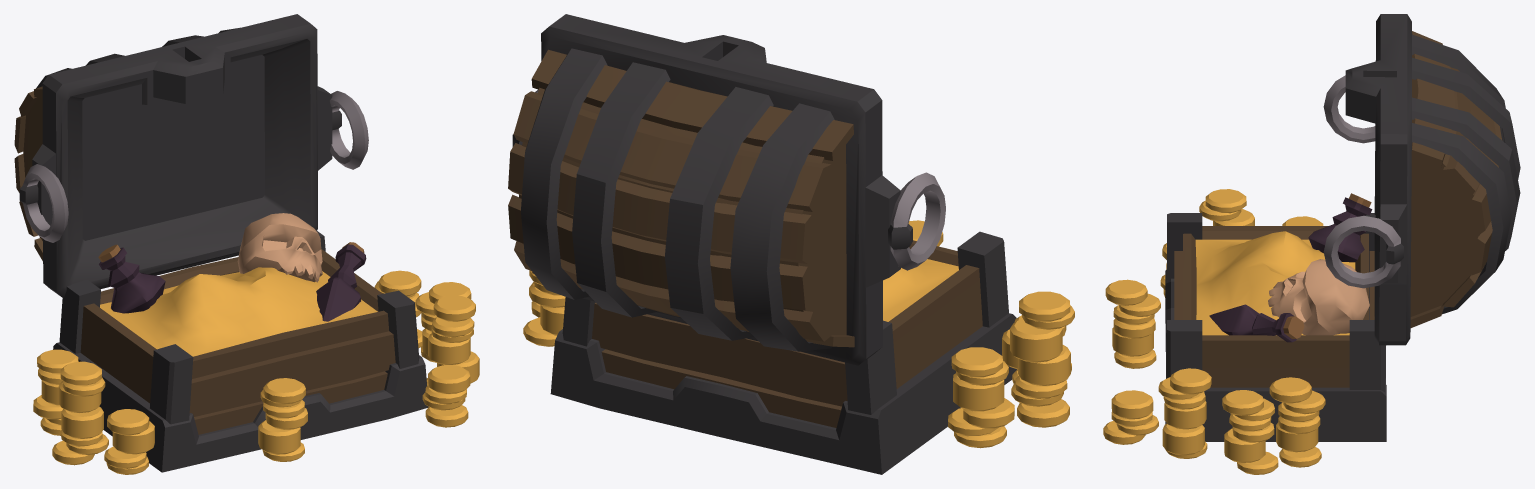
File: Prop_Chest_Gold.glb
The picture shows the model from 3 angles, left to right: view 1: azimuth 30°, elevation 25°; view 2: azimuth 150°, elevation 25°; view 3: azimuth 270°, elevation 25°; orthographic projection. The views are drawn at different scales.
Visible parts, largest first — view 1: Prop_Chest_Gold; view 2: Prop_Chest_Gold; view 3: Prop_Chest_Gold.
Boxes of the visible parts, box(x1,y1,x2,y2) form: Prop_Chest_Gold: box(14, 14, 479, 474); Prop_Chest_Gold: box(508, 14, 1074, 474); Prop_Chest_Gold: box(1103, 14, 1520, 474).
Size of the model in its own units: 1.82 by 1.28 by 1.59.
Materials: 1 (1 with a texture image).
